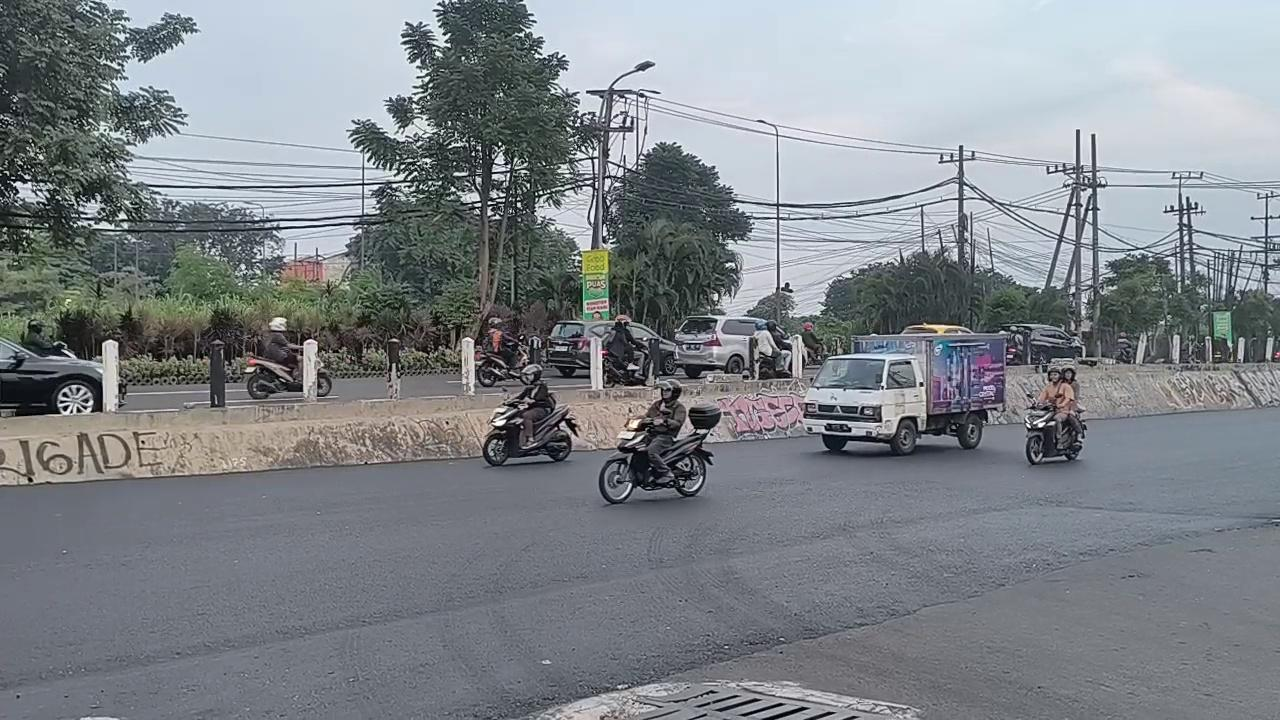Helmet: (644, 379, 687, 481), (512, 365, 555, 448), (1037, 368, 1074, 444), (604, 314, 648, 376), (262, 316, 300, 379), (484, 317, 518, 368), (753, 320, 789, 367), (1061, 365, 1084, 438), (766, 320, 794, 367), (21, 319, 57, 355), (801, 322, 821, 360)
Motor: (598, 406, 720, 503), (481, 402, 577, 465), (1024, 402, 1086, 465), (243, 356, 303, 399), (476, 348, 527, 387), (602, 350, 646, 387), (757, 353, 791, 379), (1113, 344, 1133, 363)
